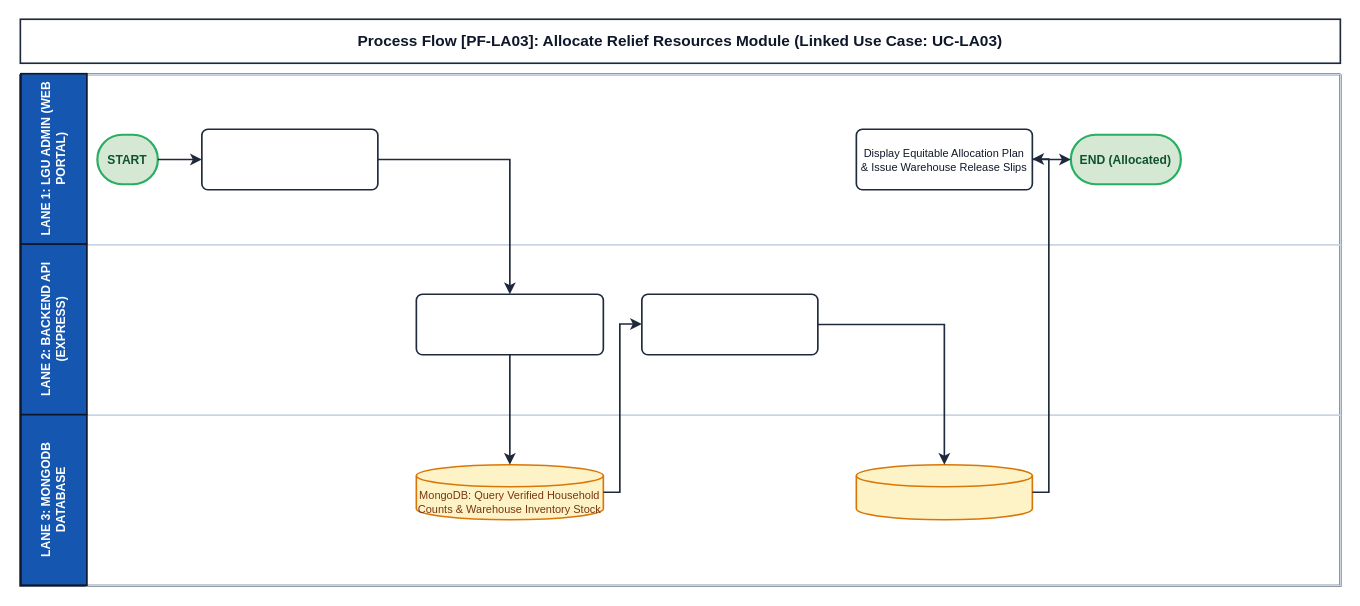
Image size: 1360x606. Some labels were removed from this diagram. The shapes that lost their labels are listed below. From the top down, each one's centre as x and y in pixels, then its label:
At [289,159]: "Open Relief Allocation Tool; Select Target Barangays".
At [509,324]: "Compute Right-Sized Quota Formula based on Population & Vulnerability".
At [729,324]: "POST /api/warehouse/:id/dispatch Create Dispatch Manifests".
At [944,491]: "MongoDB: Update Warehouse Logs & Record Decision in AuditLog".
